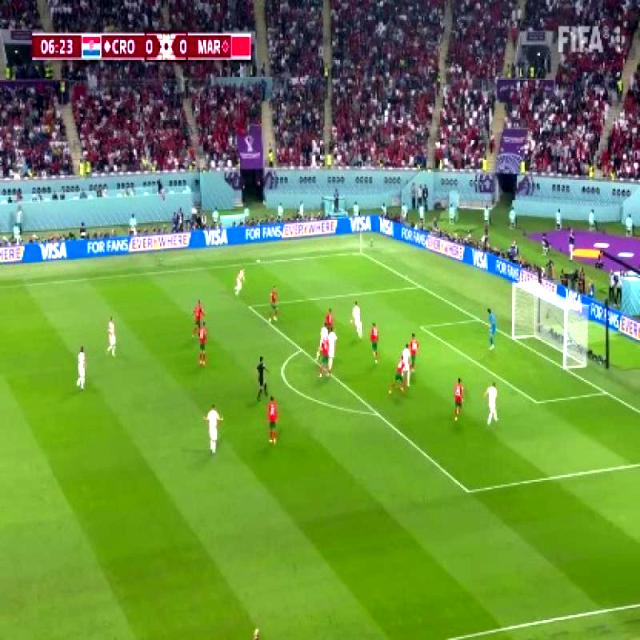bigarea_bottom_inner: (458, 478, 476, 502)
bigarea_top_inner: (241, 297, 256, 315)
bigarea_top_outter: (412, 278, 426, 292)
bottom_arc_area_intersection: (370, 403, 384, 423)
corner: (352, 246, 366, 259)
smallarea_bottom_inner: (528, 389, 544, 414)
smallarea_bottom_outter: (598, 383, 612, 400)
smallarea_top_inner: (414, 318, 428, 336)
smallarea_top_outter: (470, 309, 485, 328)
top_arc_area_intersection: (292, 340, 308, 357)
